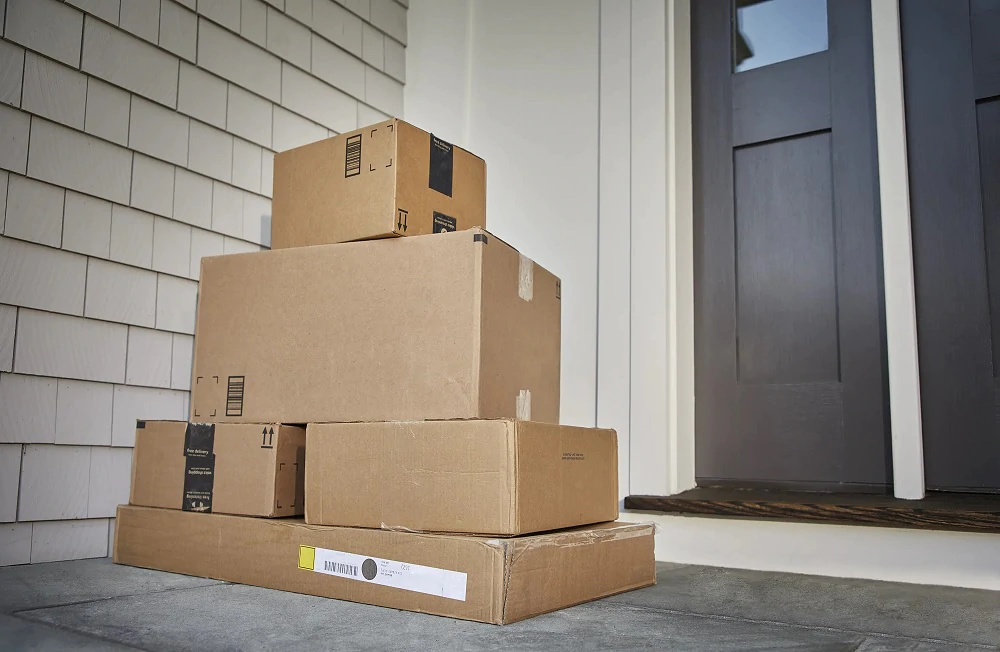package: (181, 231, 568, 429), (114, 503, 657, 628), (299, 418, 620, 527), (258, 114, 494, 238), (118, 407, 306, 526)
